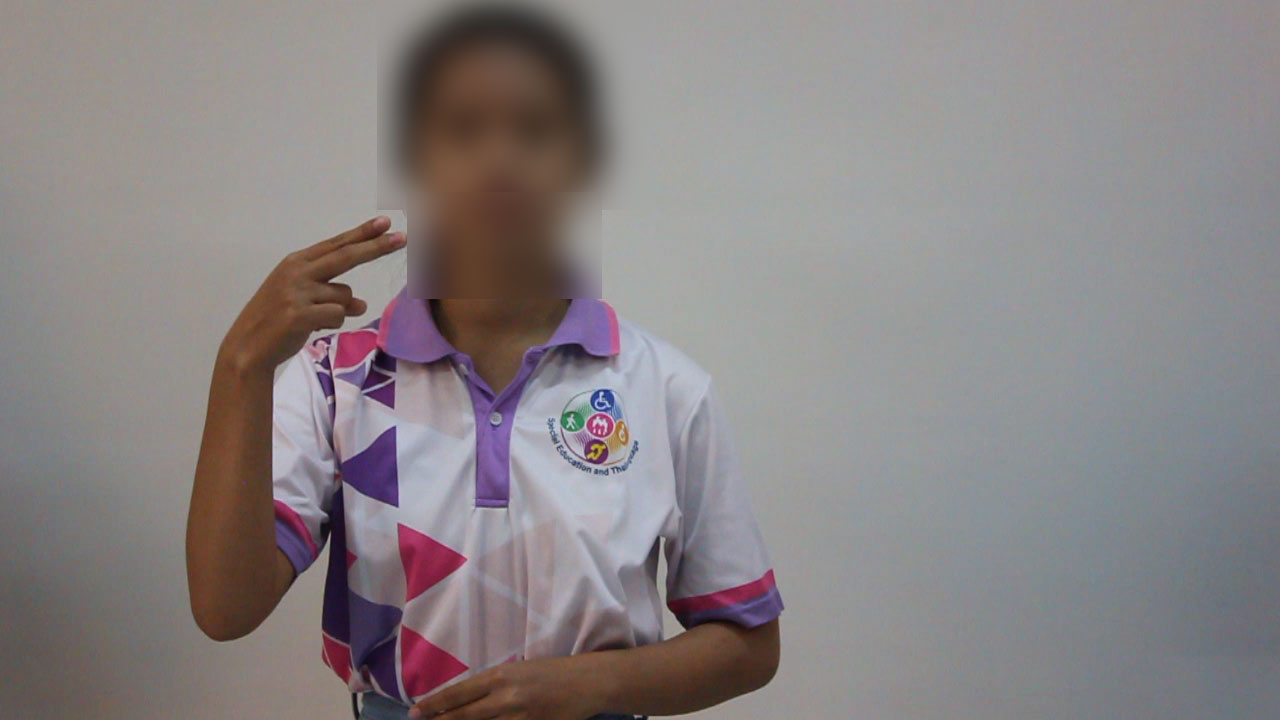hor: (210, 210, 421, 380)
